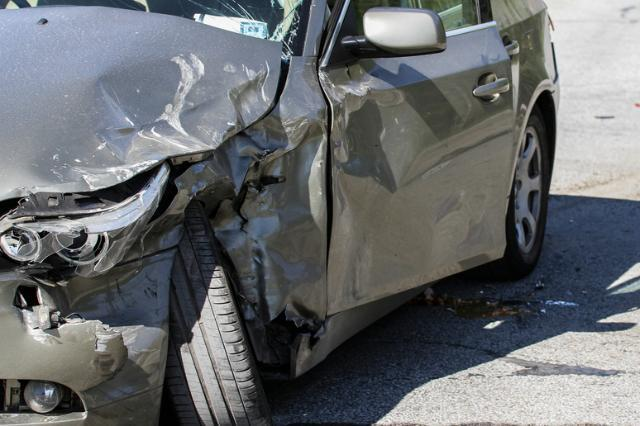Bonnet: (6, 9, 288, 206)
Bumper: (0, 247, 177, 426)
Door: (327, 64, 408, 209)
Fender: (184, 57, 331, 324)
Light: (0, 169, 169, 268)
